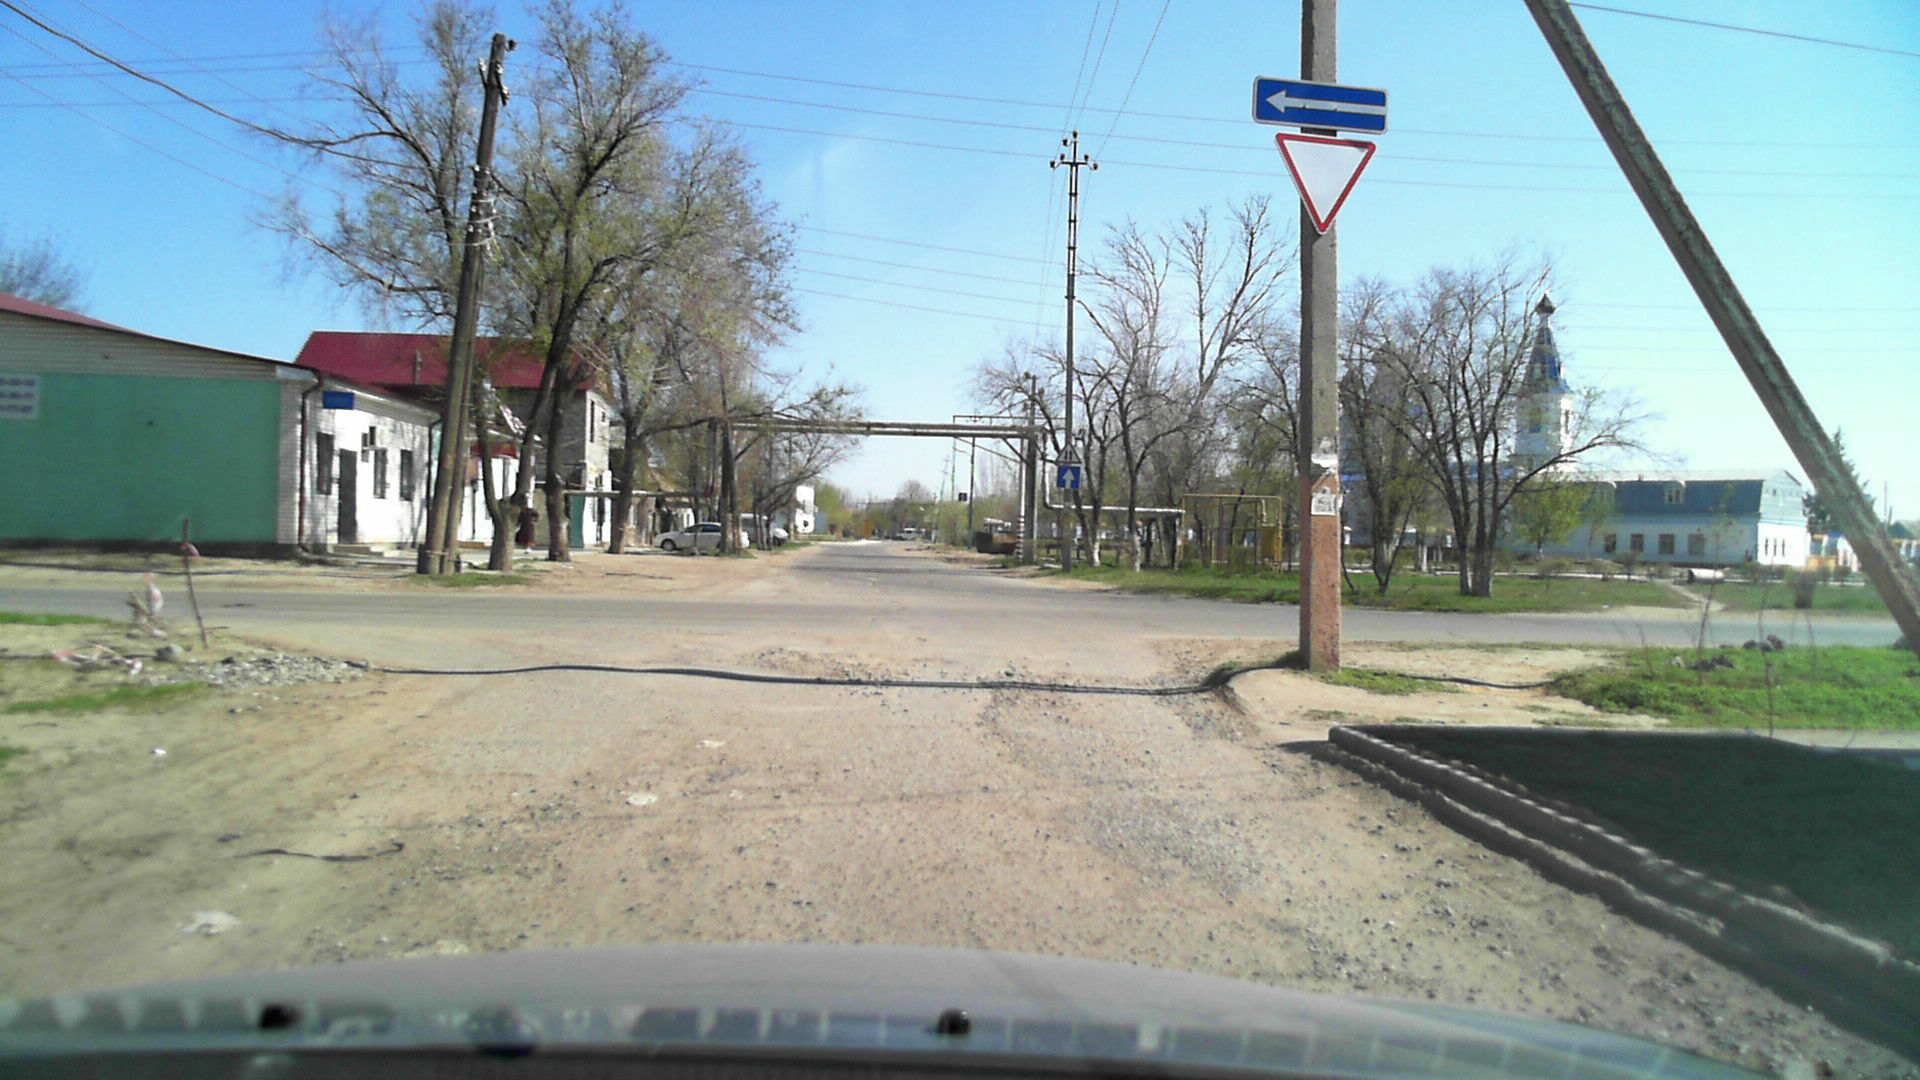One-Way Traffic: (1254, 76, 1389, 135)
